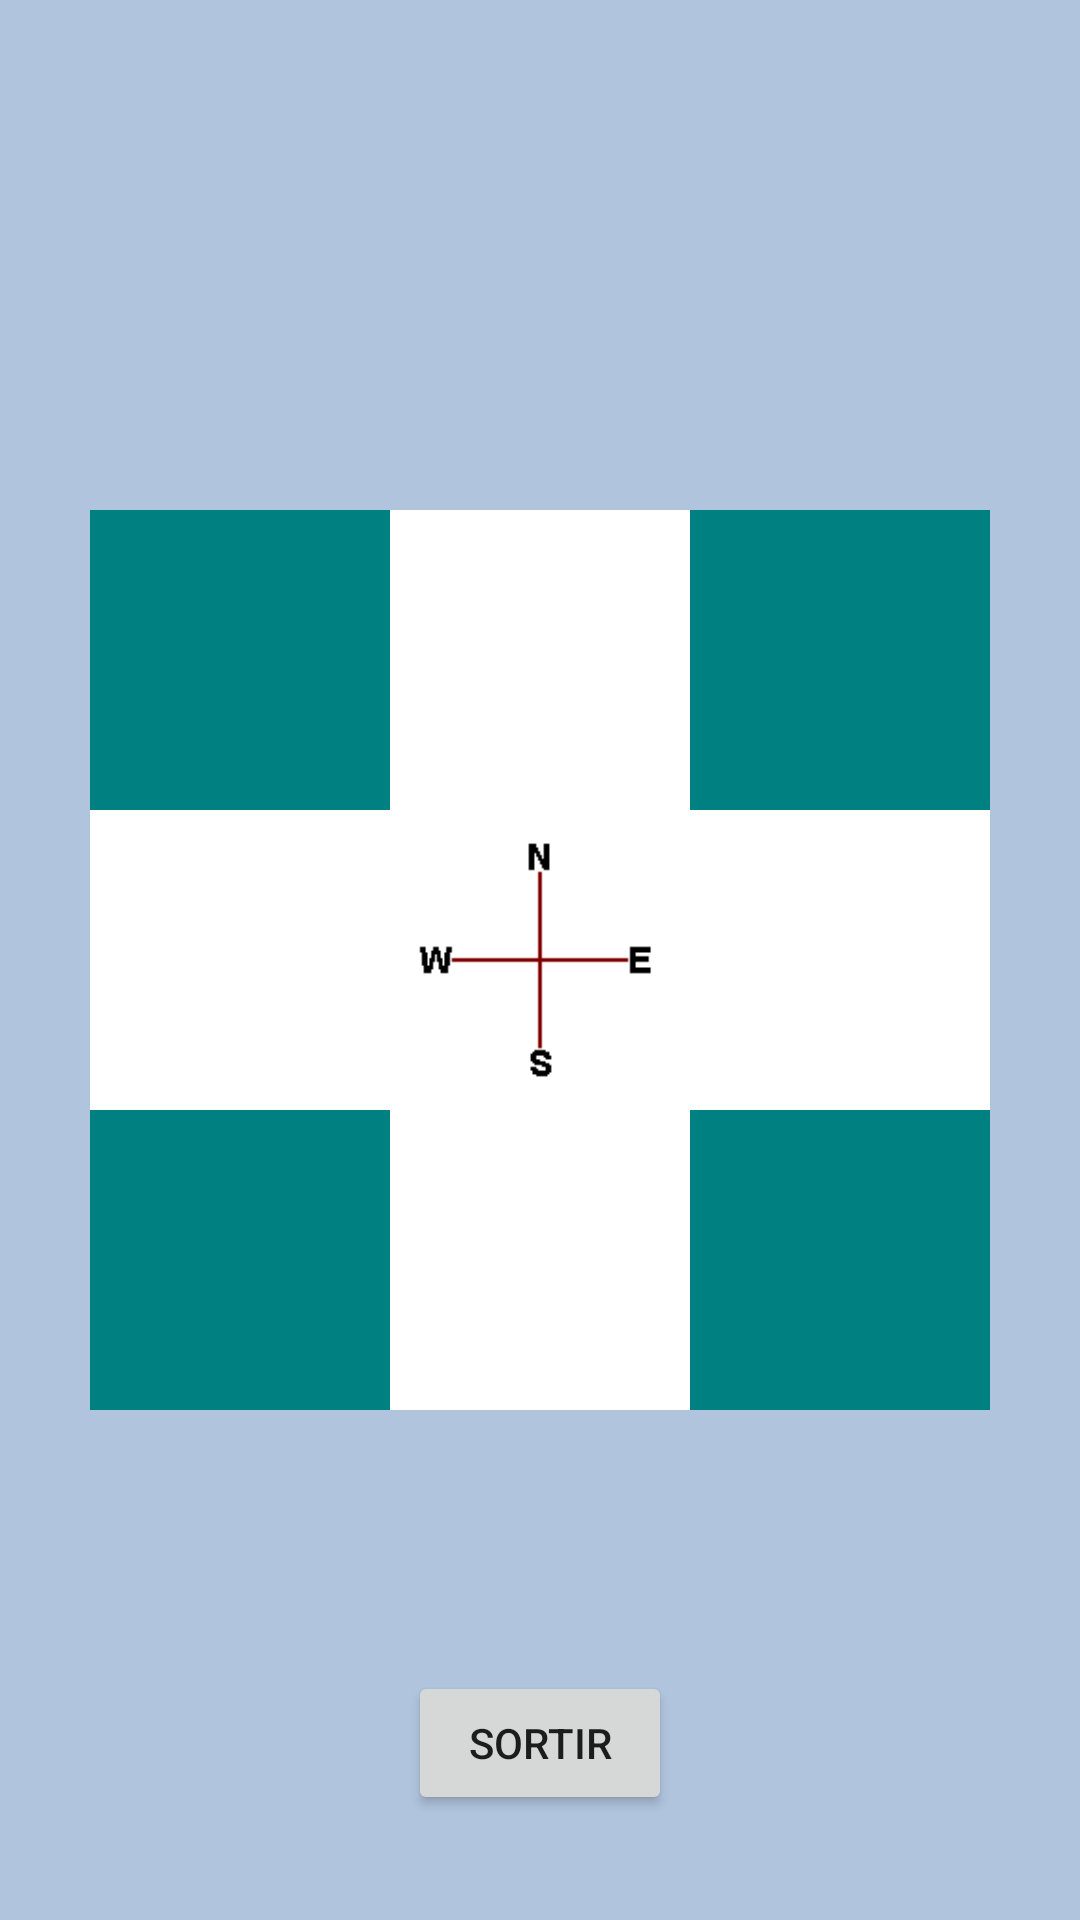

Named icons in this screenshot (1080px×1920px) and their bounding boxes, (x1, y1, x2, y2):
orientation: (419, 843, 651, 1077)
